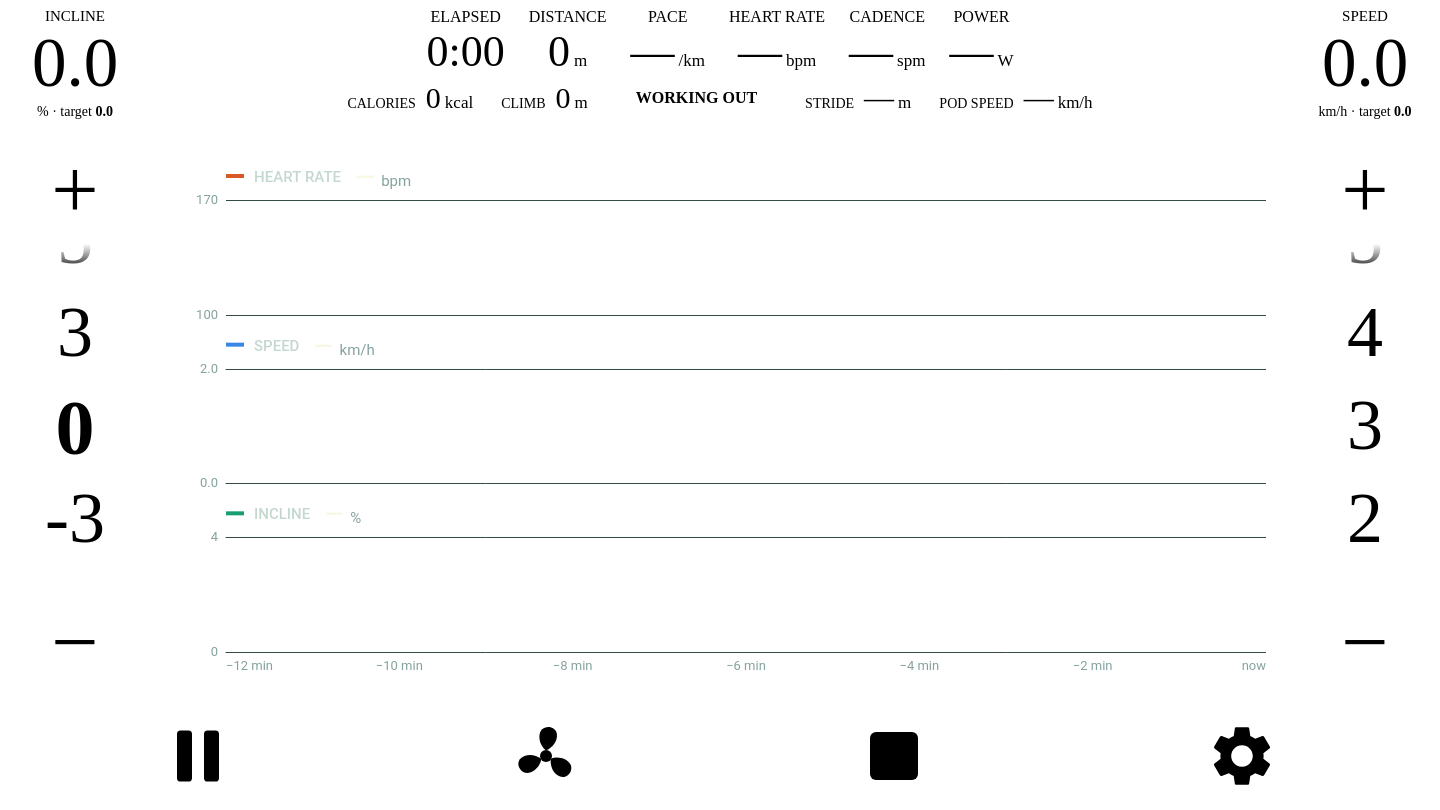
Test: workout › opens settings mid-run from the cog, without pausing
(page scrolled)
Click the 4th button named "SETTINGS".
click(1242, 750)  # box [1068, 706, 1416, 794]
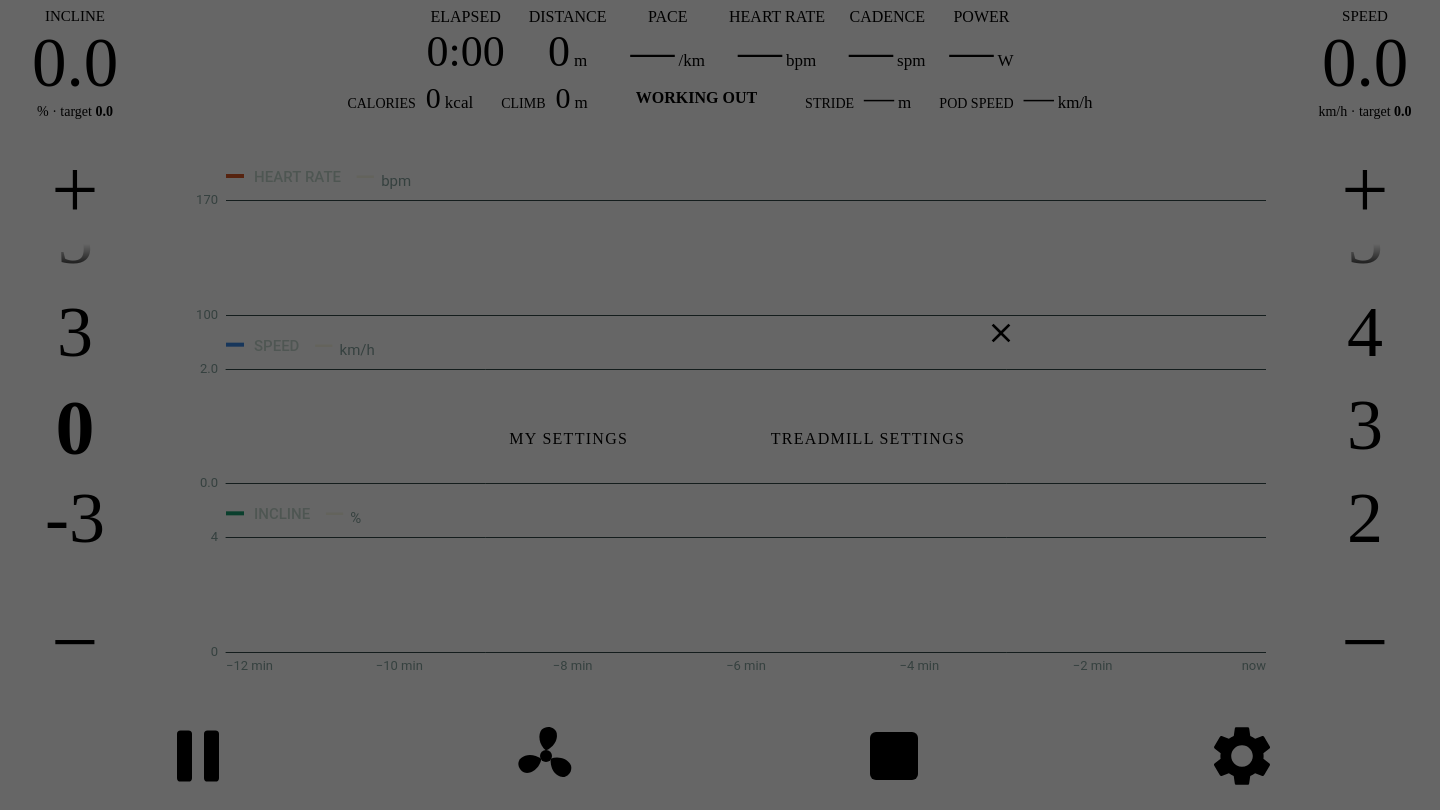
Now the dialog "SETTINGS" is shown, box [391, 285, 1049, 525]
Click the button "MY SETTINGS".
click(569, 439)  # box [439, 393, 699, 485]
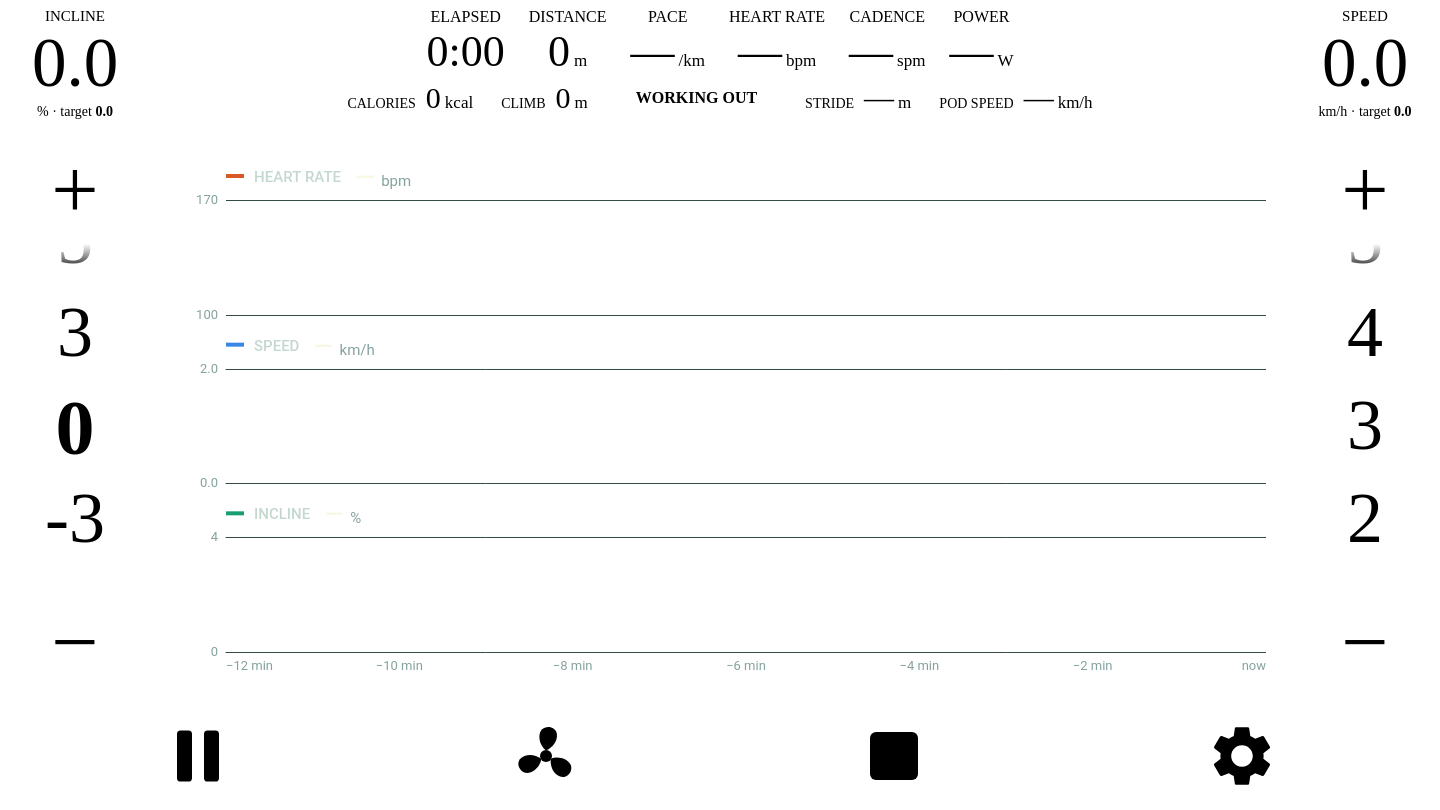
Now the dialog is gone
